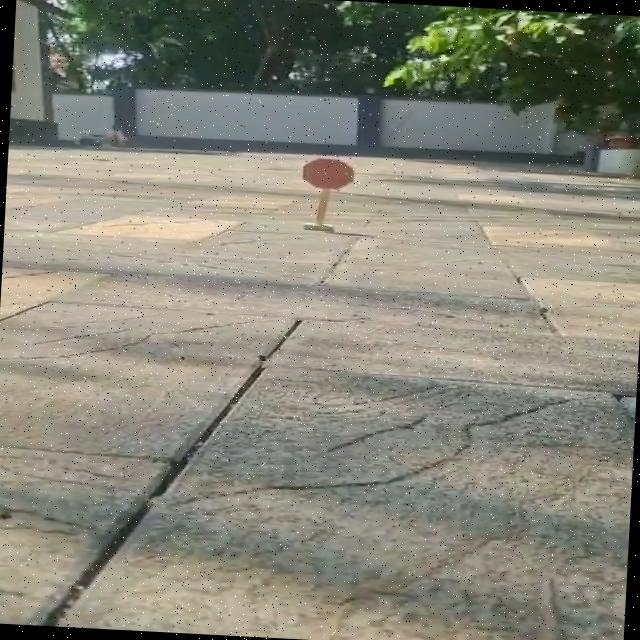Stop: (290, 150, 369, 198)
